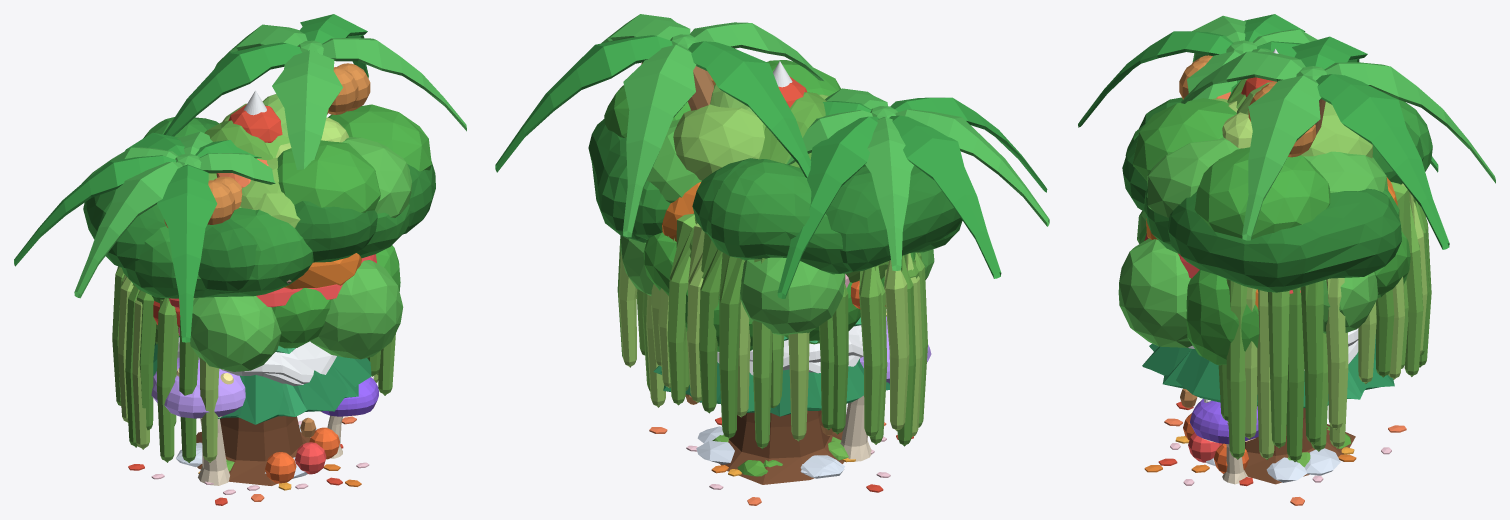
Rendered from trees.glb.
3 renders of one model, left to right at view 1: azimuth 30°, elevation 25°; view 2: azimuth 150°, elevation 25°; view 3: azimuth 270°, elevation 25°, orthographic. The views are drawn at different scales.
Visible parts, largest first — view 1: Tree_oak_b, Tree_palm_a, Tree_palm_b, Tree_oak_a, Tree_round_b, Tree_willow_a, Tree_pinesnow_b, Tree_willow_b, Tree_mushroom_b, Tree_round_a, Tree_maple_b, Tree_maple_a (+6 smaller); view 2: Tree_willow_b, Tree_palm_b, Tree_palm_a, Tree_willow_a, Tree_oak_a, Tree_oak_b, Tree_round_b, Tree_pinesnow_b, Tree_pinesnow_a, Tree_mushroom_b, Tree_round_a, Tree_maple_a (+2 smaller); view 3: Tree_oak_b, Tree_palm_b, Tree_willow_a, Tree_willow_b, Tree_round_b, Tree_oak_a, Tree_palm_a, Tree_round_a, Tree_pinesnow_b, Tree_mushroom_b, Tree_birch_b, Tree_maple_b (+5 smaller).
Part boxes in pixels (x1=…): Tree_oak_b: x1=83, y1=104, x2=435, y2=485; Tree_palm_a: x1=14, y1=131, x2=275, y2=342; Tree_palm_b: x1=163, y1=14, x2=466, y2=169; Tree_oak_a: x1=122, y1=117, x2=411, y2=485; Tree_round_b: x1=190, y1=260, x2=403, y2=371; Tree_willow_a: x1=121, y1=103, x2=380, y2=462; Tree_pinesnow_b: x1=153, y1=90, x2=371, y2=478; Tree_willow_b: x1=112, y1=120, x2=395, y2=430; Tree_mushroom_b: x1=151, y1=357, x2=378, y2=485; Tree_round_a: x1=152, y1=245, x2=400, y2=348; Tree_maple_b: x1=128, y1=104, x2=356, y2=505; Tree_maple_a: x1=198, y1=253, x2=362, y2=490; Tree_willow_b: x1=642, y1=92, x2=919, y2=448; Tree_palm_b: x1=495, y1=14, x2=823, y2=237; Tree_palm_a: x1=777, y1=88, x2=1049, y2=298; Tree_willow_a: x1=617, y1=104, x2=927, y2=446; Tree_oak_a: x1=634, y1=119, x2=962, y2=484; Tree_oak_b: x1=588, y1=60, x2=961, y2=484; Tree_round_b: x1=620, y1=235, x2=934, y2=335; Tree_pinesnow_b: x1=663, y1=61, x2=863, y2=477; Tree_pinesnow_a: x1=685, y1=325, x2=889, y2=478; Tree_mushroom_b: x1=712, y1=311, x2=931, y2=467; Tree_round_a: x1=643, y1=232, x2=915, y2=351; Tree_maple_a: x1=662, y1=182, x2=855, y2=476; Tree_oak_b: x1=1122, y1=97, x2=1423, y2=484; Tree_palm_b: x1=1180, y1=36, x2=1495, y2=249; Tree_willow_a: x1=1218, y1=92, x2=1429, y2=448; Tree_willow_b: x1=1211, y1=78, x2=1431, y2=461; Tree_round_b: x1=1118, y1=211, x2=1378, y2=347; Tree_oak_a: x1=1125, y1=98, x2=1432, y2=454; Tree_palm_a: x1=1078, y1=14, x2=1438, y2=172; Tree_round_a: x1=1139, y1=225, x2=1410, y2=365; Tree_pinesnow_b: x1=1142, y1=49, x2=1394, y2=482; Tree_mushroom_b: x1=1190, y1=398, x2=1329, y2=484; Tree_birch_b: x1=1222, y1=82, x2=1271, y2=148; Tree_maple_b: x1=1158, y1=77, x2=1406, y2=505.
Size of the model in its own units: 4.23 by 3.68 by 3.31.
